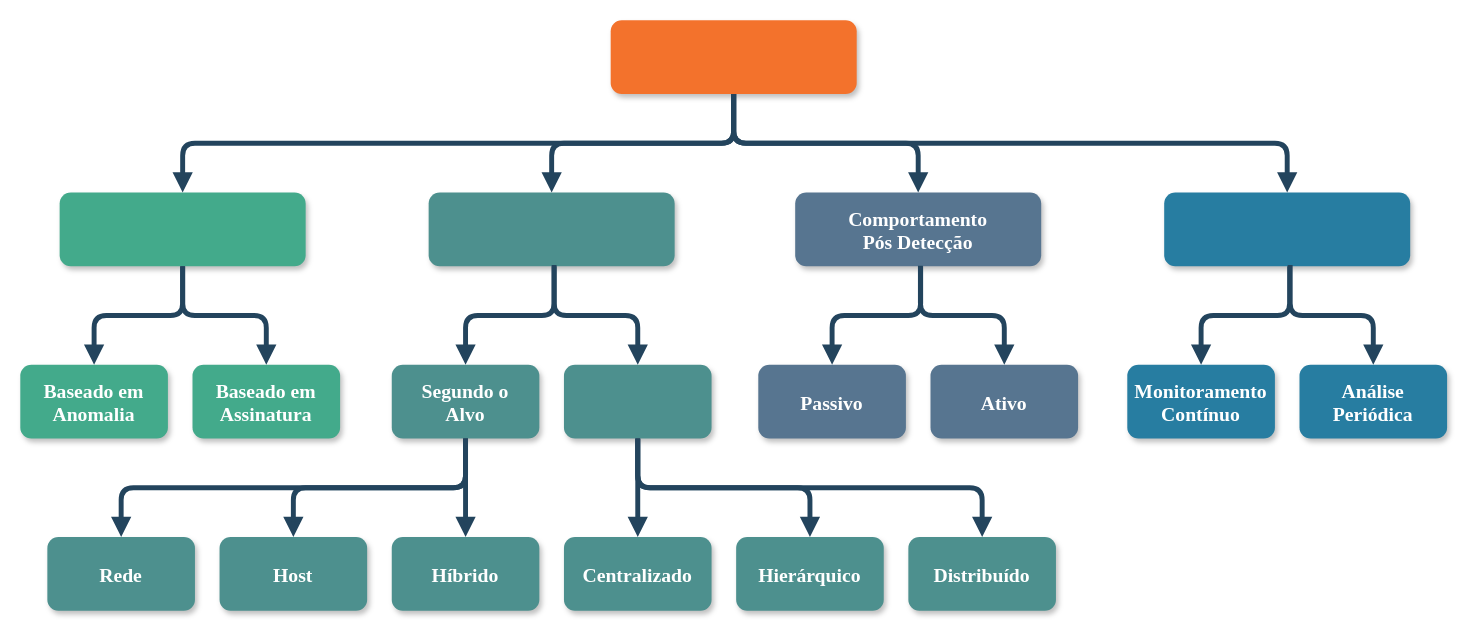
The diagram is 1467 pixels wide and 631 high, and some of its shapes have lost their labels. The shapes that lost their labels are listed below. From the top down, each one's centre as x and y in pixels, then its label:
pixel 734 58: Classificação do IDS
pixel 183 230: Método de Detecção
pixel 552 230: Arquitetura
pixel 1288 230: Frequência de Uso
pixel 638 402: Segundo a Localização
